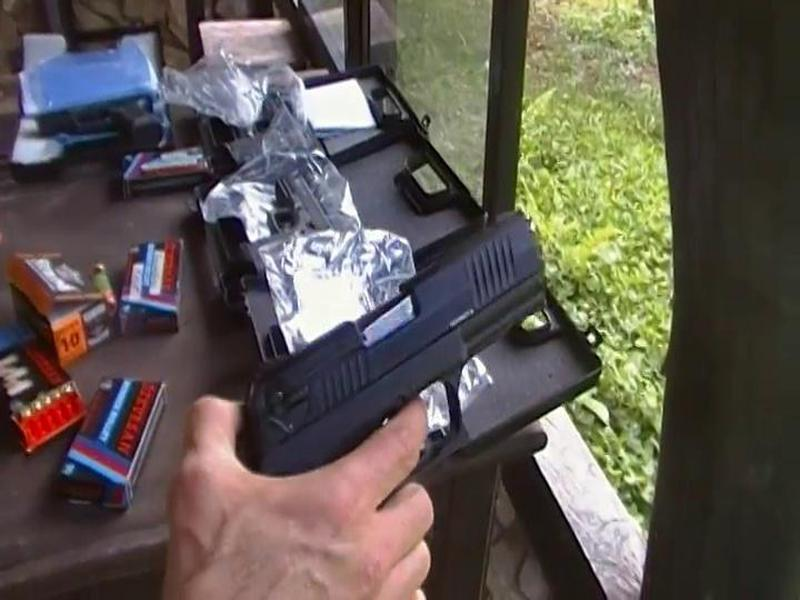Pistola: (204, 203, 564, 523)
